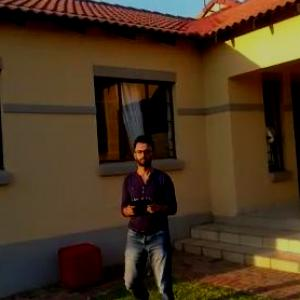follow: (107, 132, 176, 299)
